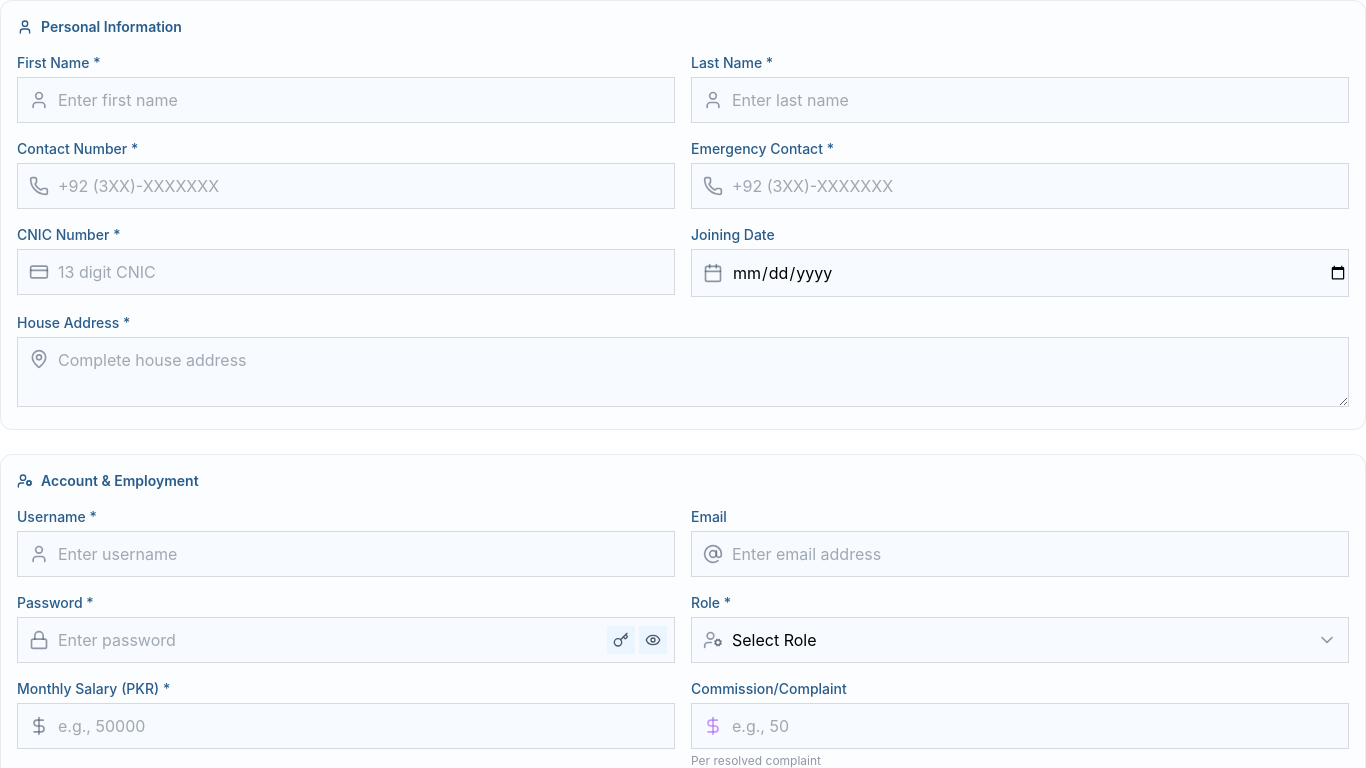
Test: EmployeeForm contact validation › limits CNIC to 13 digits and shows an inline validation error
Type "12345-1234567-1999" into the field labelled "CNIC Number *" at (346, 272), box [17,249,675,295]
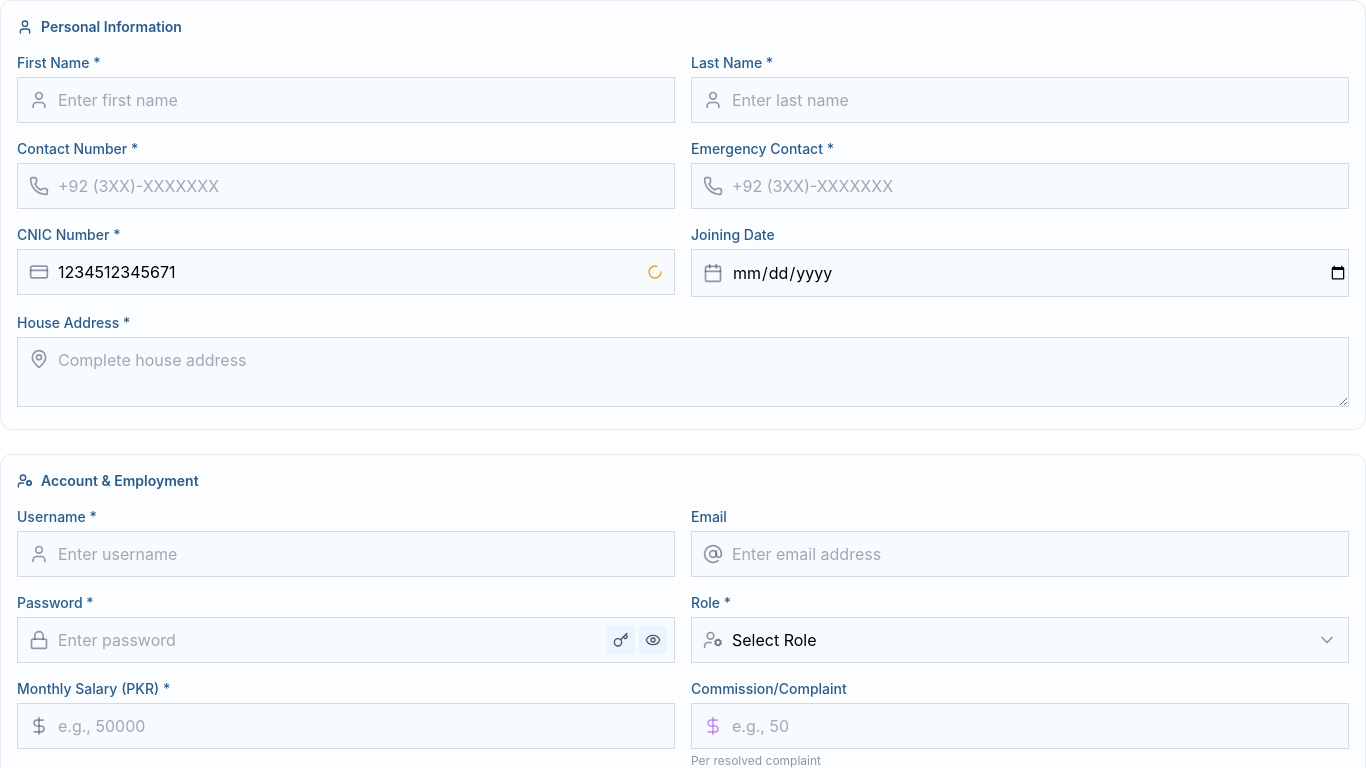
expect the field labelled "CNIC Number *" holds "1234512345671": met
Replace the text in the field labelled "CNIC Number *" with "12345" at (346, 272), box [17,249,675,295]
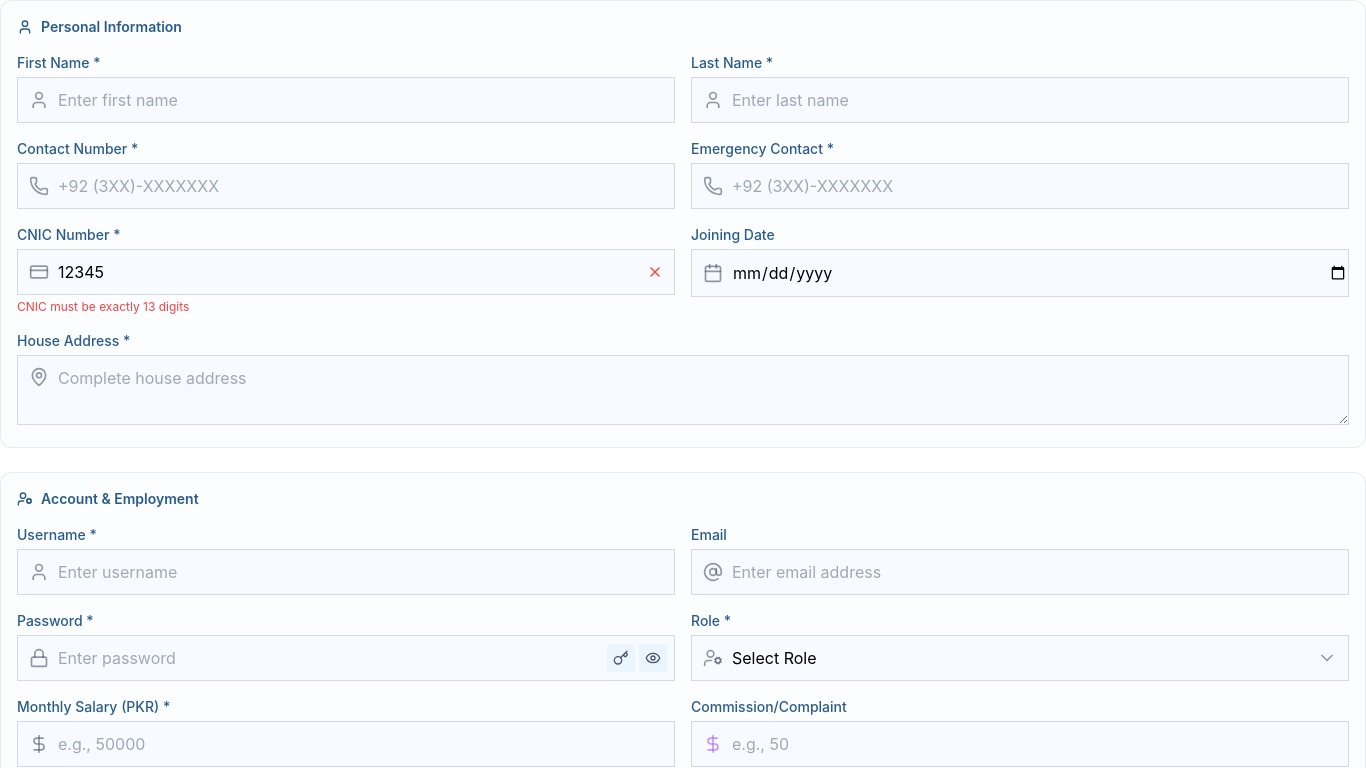
expect the text "CNIC must be exactly 13 digits" is shown: met, box [17,299,189,314]
